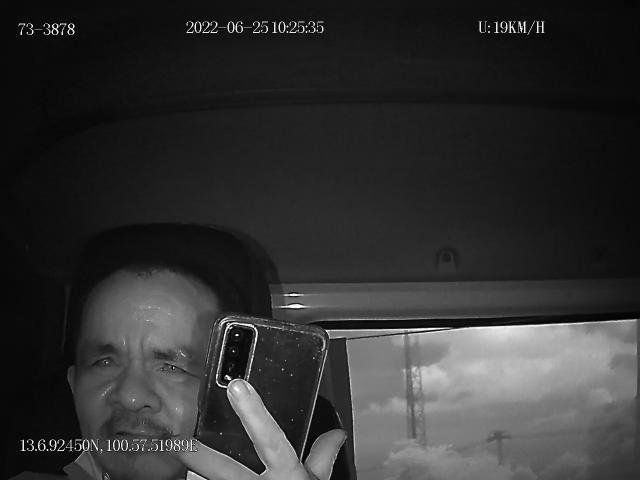PhoneUse: (195, 314, 327, 480)
SafeDriving: (80, 342, 126, 379), (146, 348, 192, 382)
